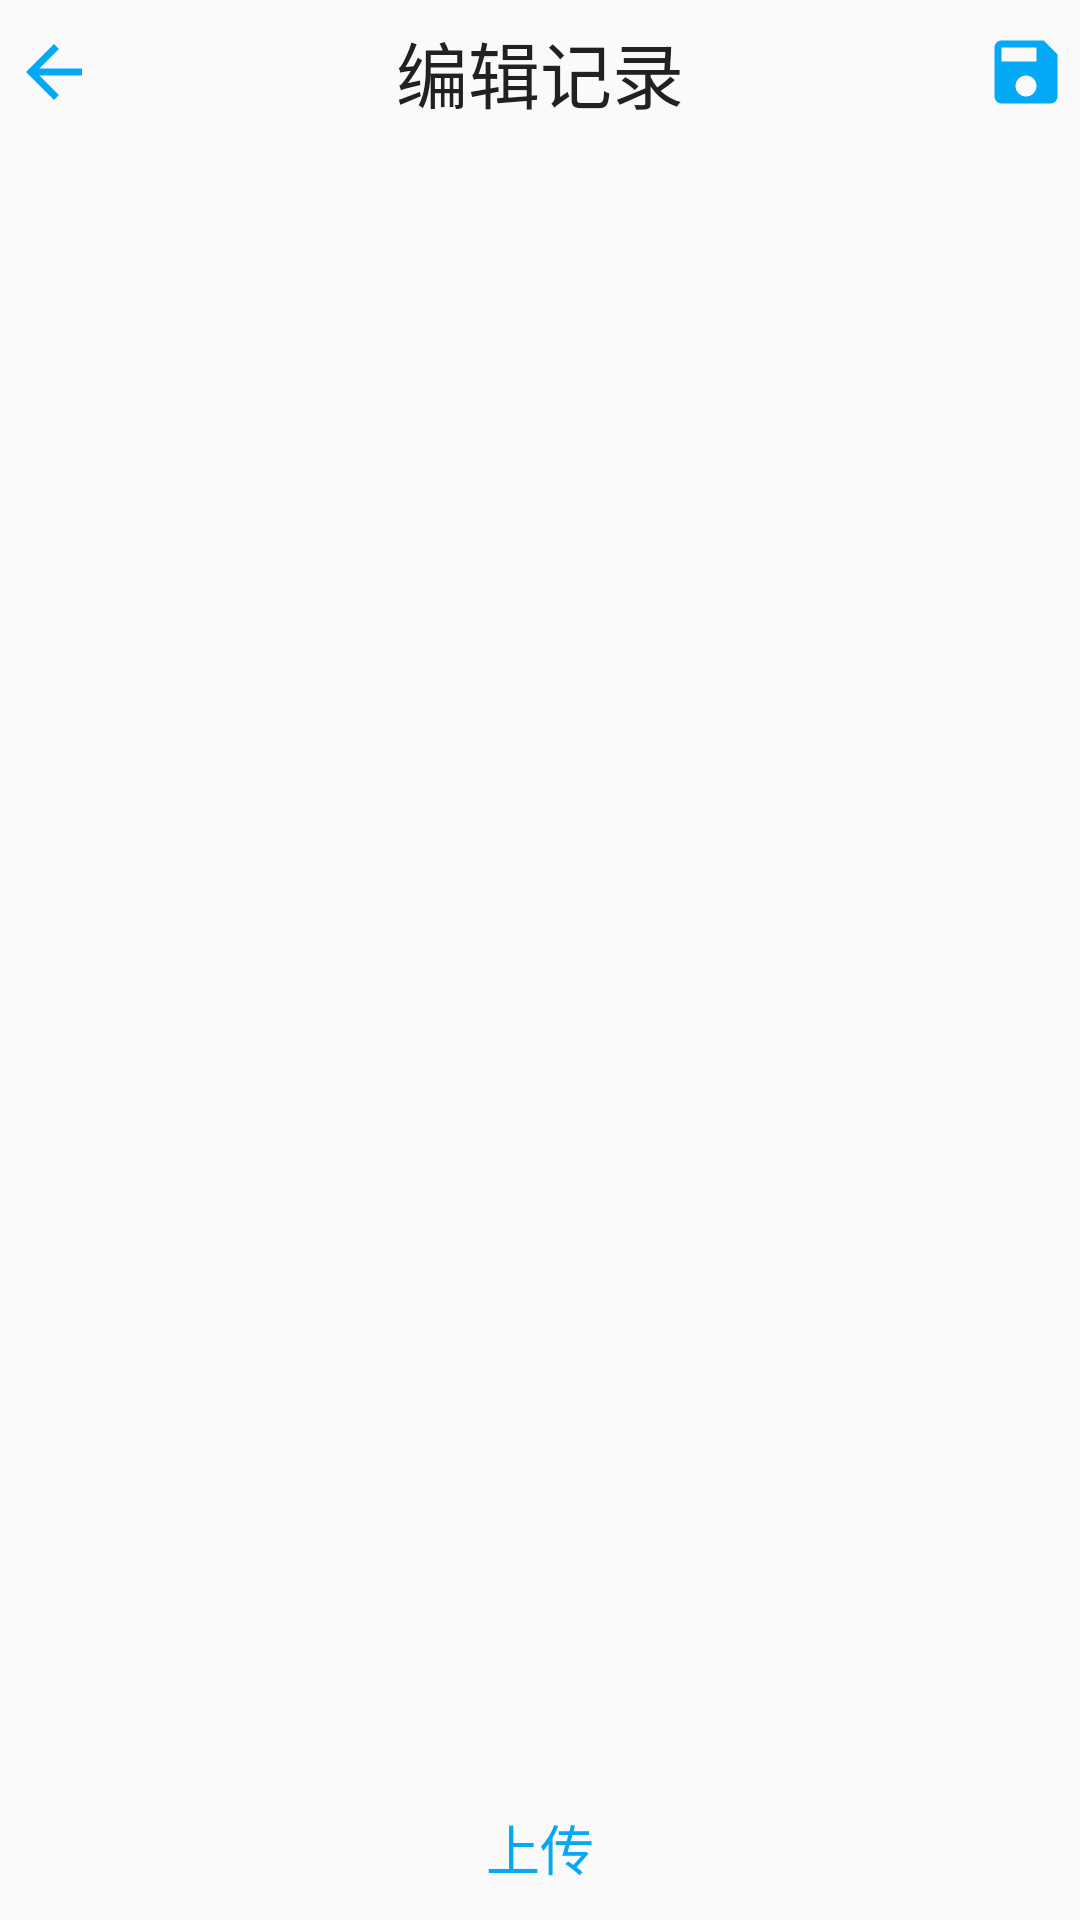

Icon click points for this 1080×1920 phone screenshot, format (x,y):
back: (54,72)
save: (1026,72)
